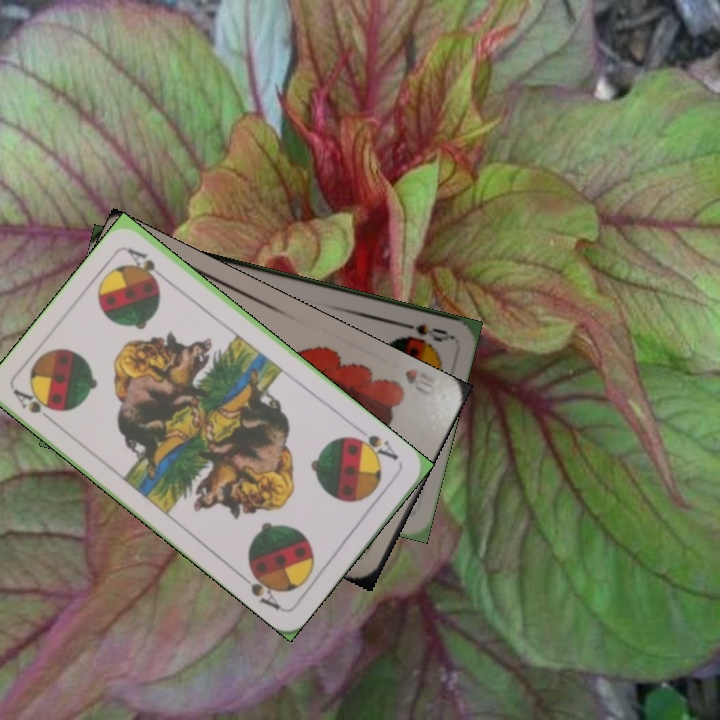H10: (400, 364, 439, 398)
SA: (347, 423, 402, 464), (9, 385, 60, 428)
SO: (394, 317, 451, 345)
